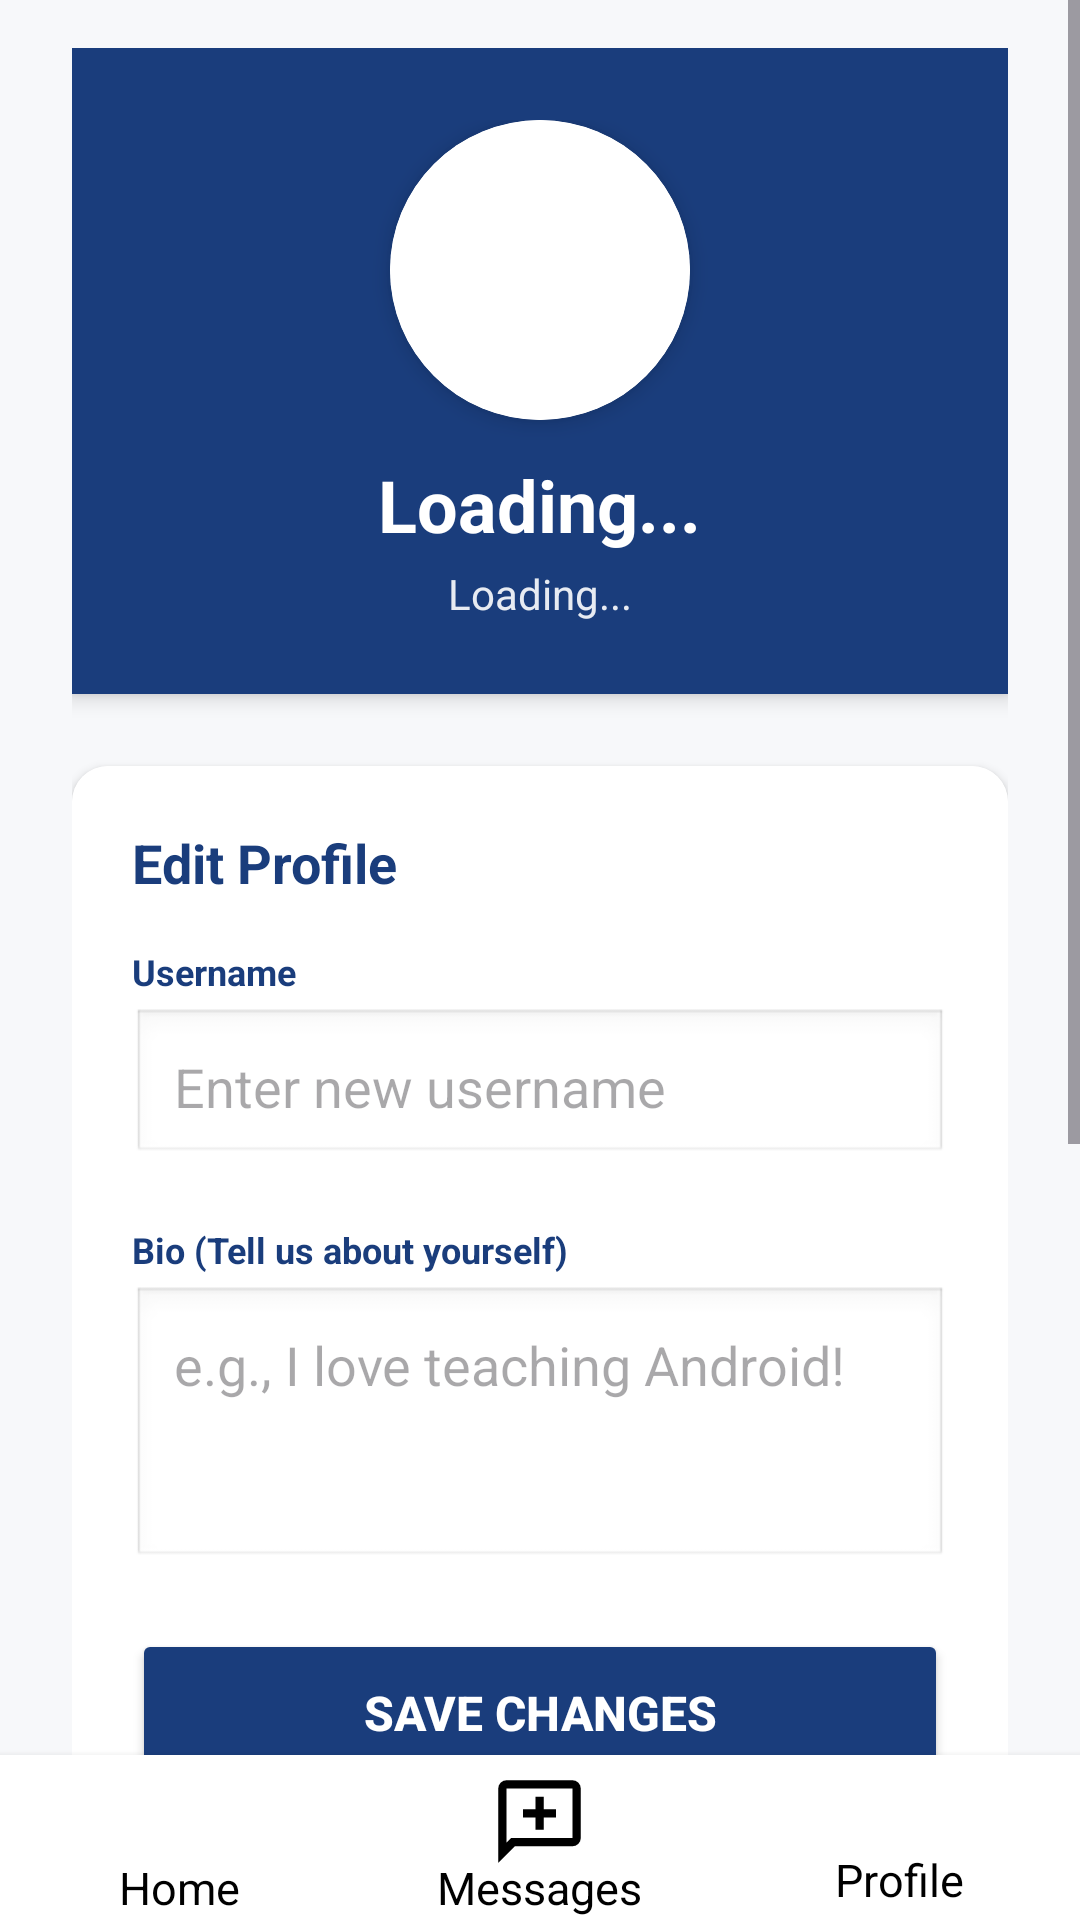

Icons on this 1080px x 1920px Android screen, each with the point to tap as (x,y):
add comment: (539,1821)
